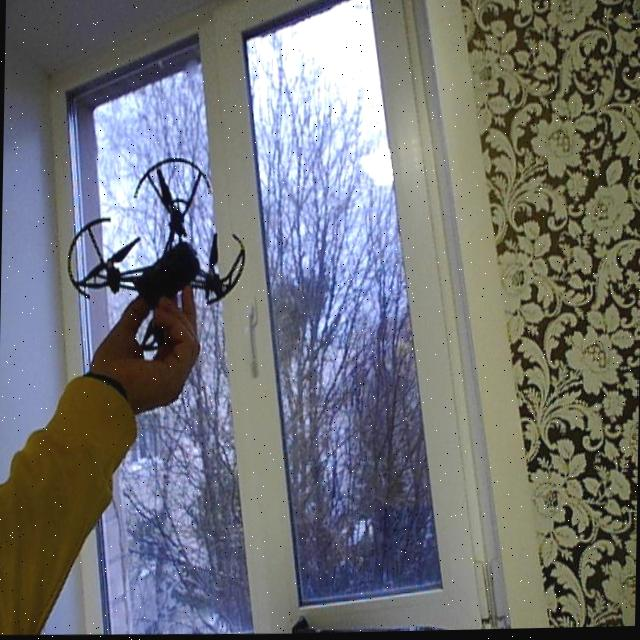drone: (60, 146, 268, 387)
